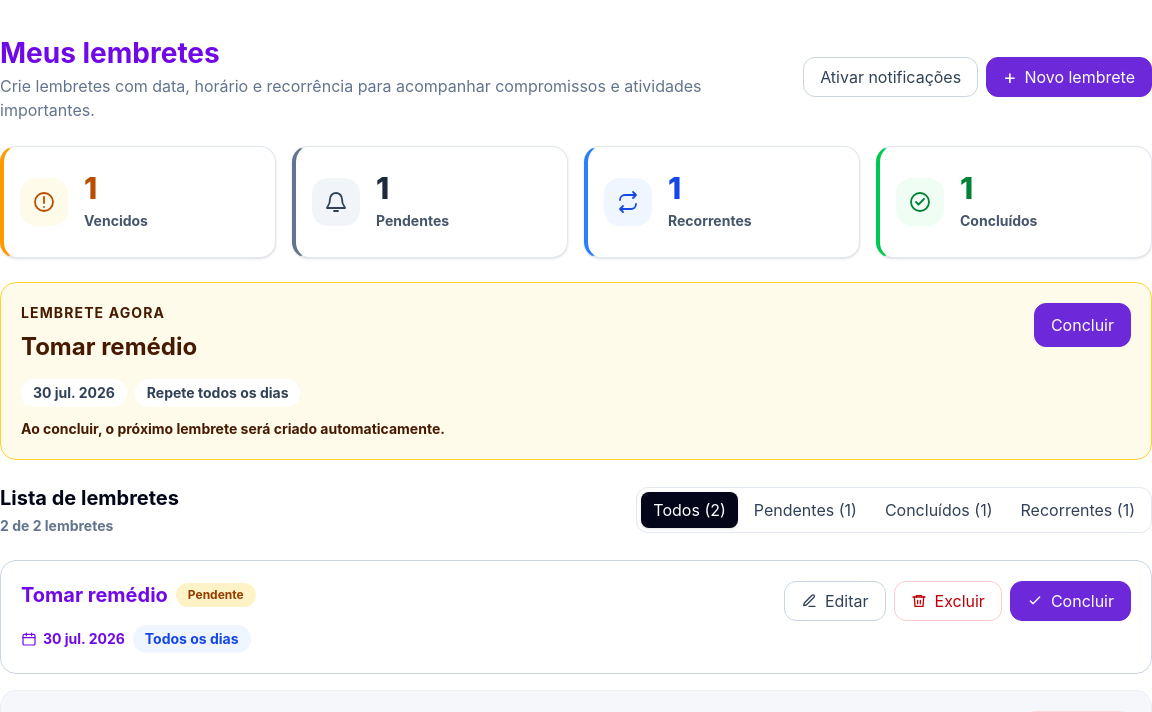
Test case: RemindersPage integration › abre o formulário, cria um lembrete e volta à lista
Click the button "+ Novo lembrete": (1069, 77) [986,57,1151,97]
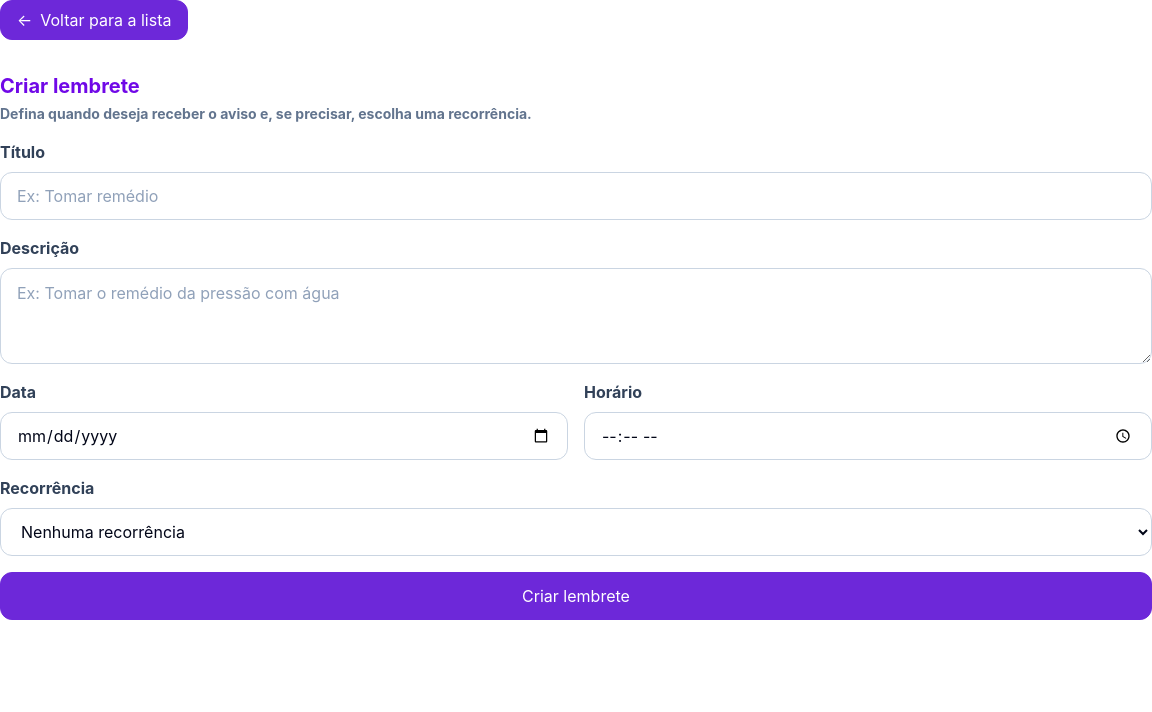
In the field labelled "Título": (576, 196) [0,172,1151,220], type "Buscar resultado"
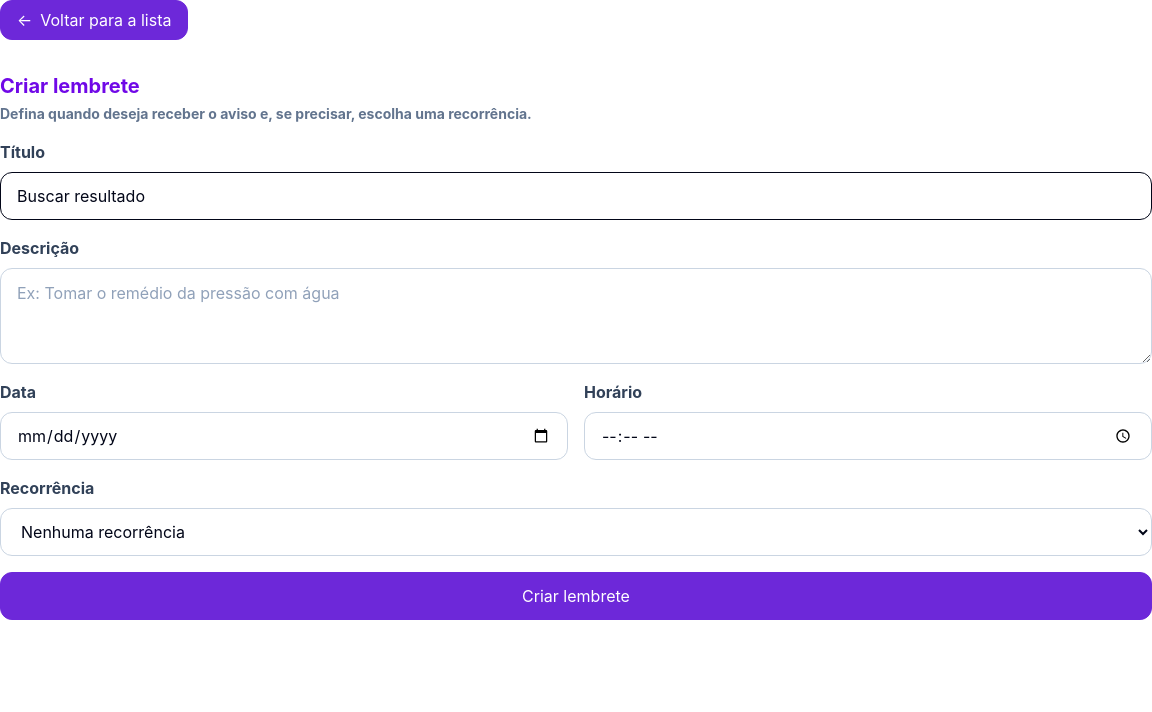
In the date field labelled "Data": (284, 436) [0,412,568,460], type "2026-08-01"
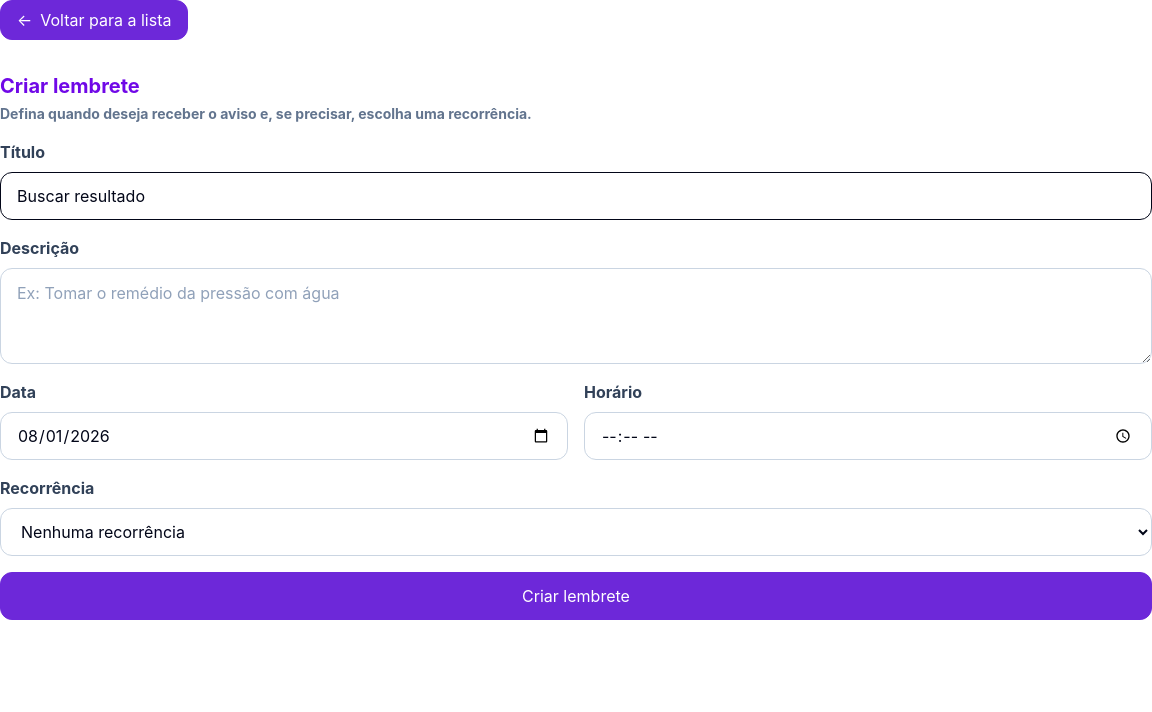
Click the button "Criar lembrete": (576, 596) [0,572,1151,620]
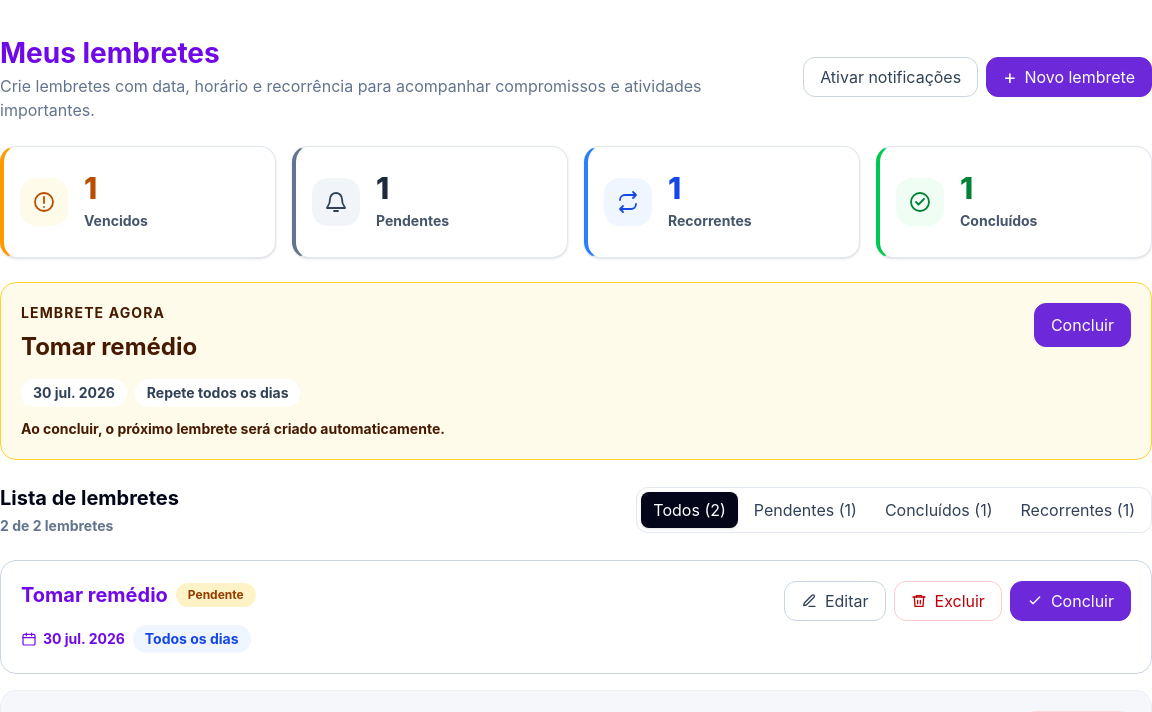
Result: the heading "Meus lembretes" is shown at [0,36,220,70]
